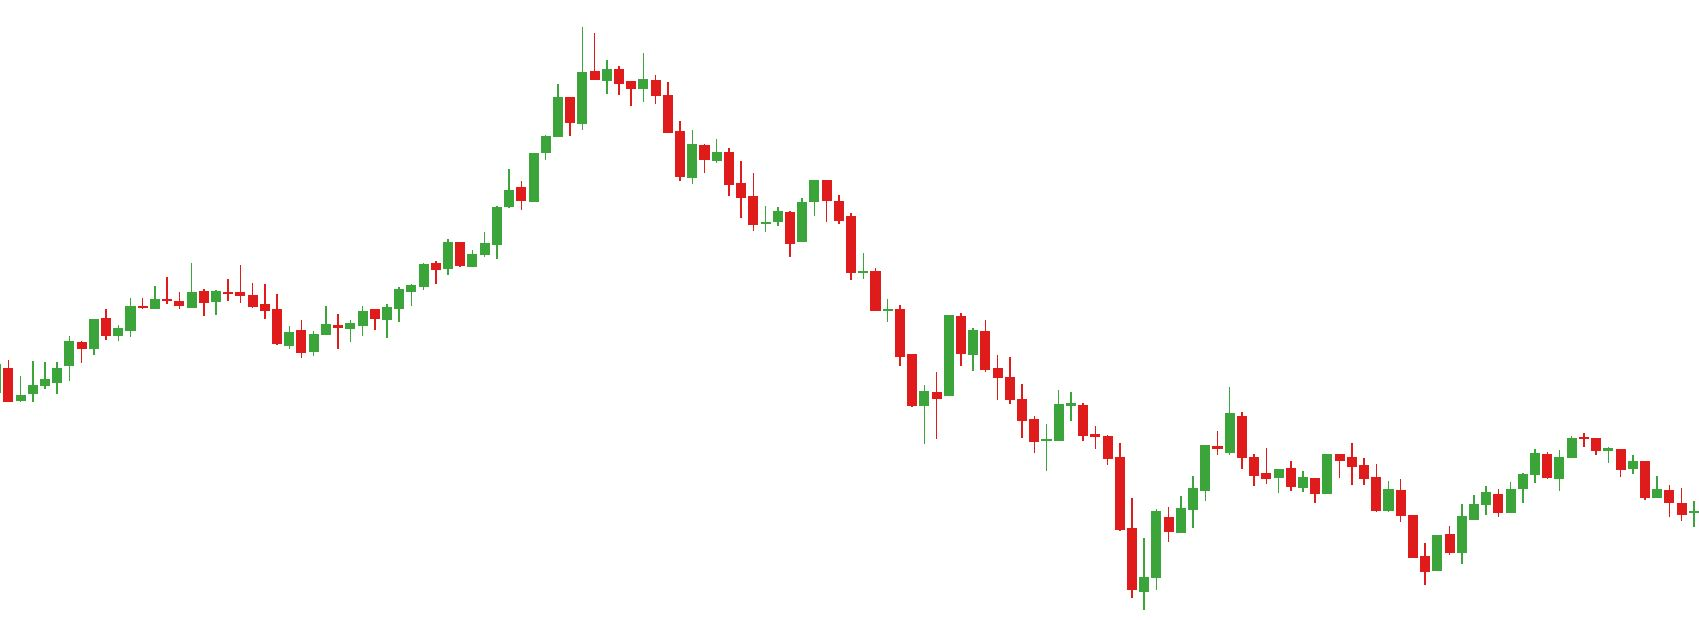buy: (918, 388, 1067, 473)
